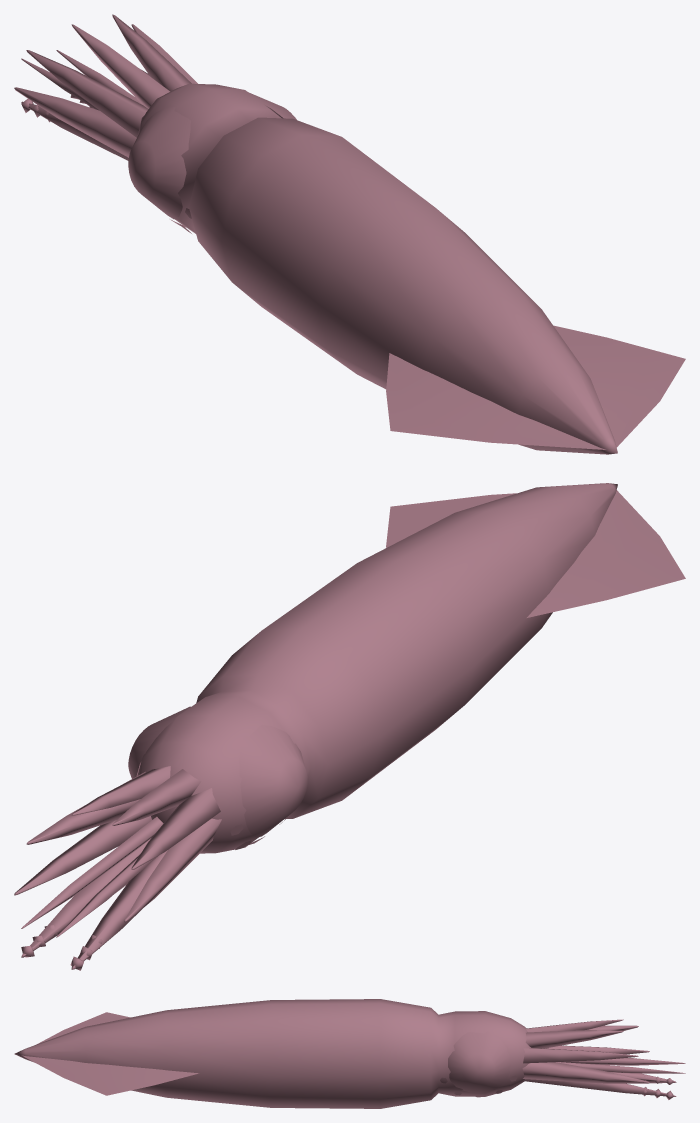
Rendered from firefly_squid_game.glb.
3 views of the same model, one above another, from view 1: azimuth 30°, elevation 25°; view 2: azimuth 150°, elevation 25°; view 3: azimuth 270°, elevation 25° (orthographic). The views are drawn at different scales.
Visible parts, largest first — view 1: firefly_squid_game; view 2: firefly_squid_game; view 3: firefly_squid_game.
Boxes of the visible parts, x1,y1,x2,y2 form: firefly_squid_game: [14, 14, 685, 454]; firefly_squid_game: [14, 483, 685, 970]; firefly_squid_game: [14, 999, 685, 1108].
Size of the model in its own units: 0.0208 by 0.0117 by 0.0706.
